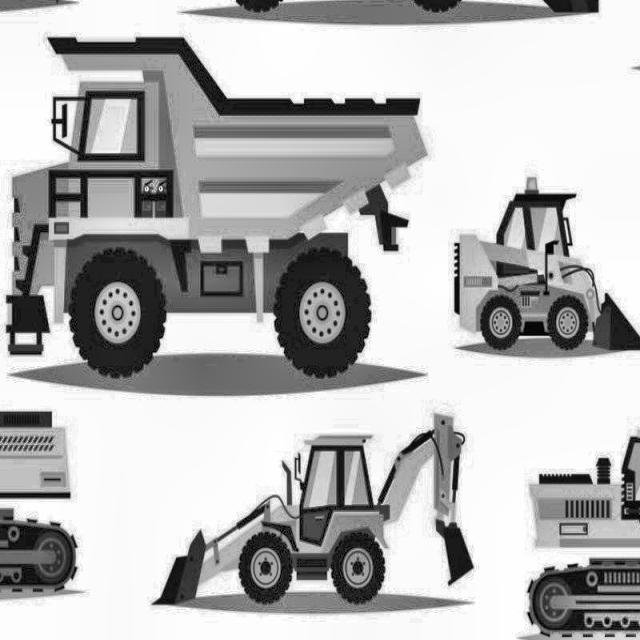excavator: (0, 280, 105, 622)
